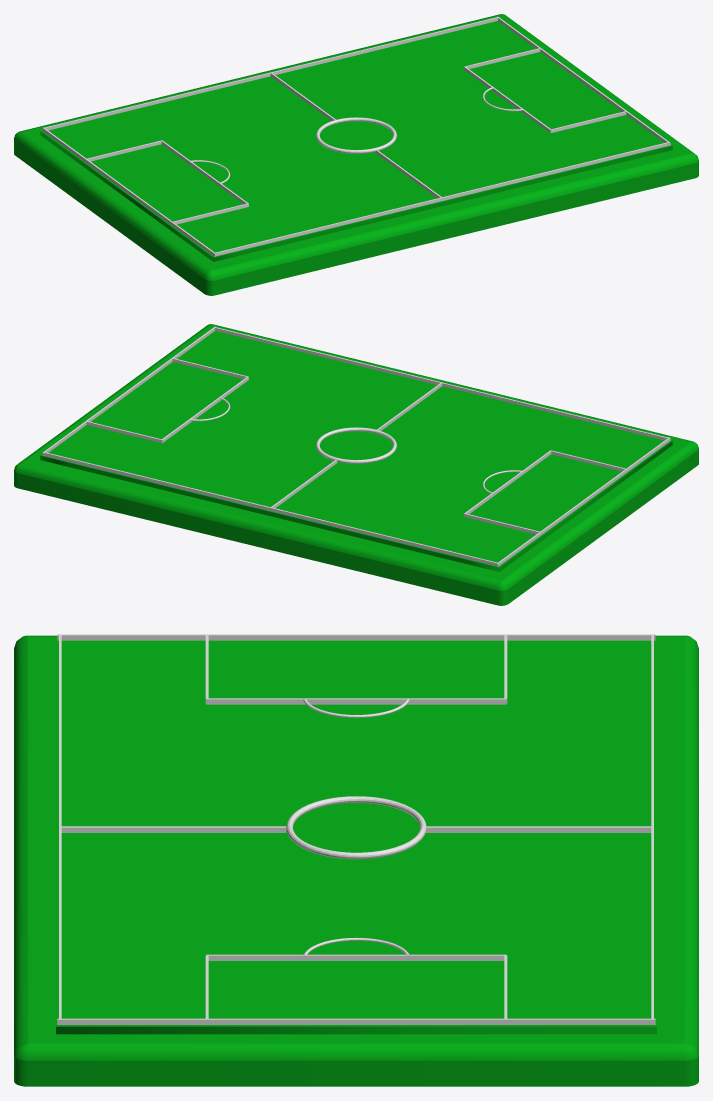
The model's file is field_non_sha.fbx.
3 views of the same model, one above another, from view 1: azimuth 30°, elevation 25°; view 2: azimuth 150°, elevation 25°; view 3: azimuth 270°, elevation 25° (orthographic). The views are drawn at different scales.
Visible parts, largest first — view 1: rect; view 2: rect; view 3: rect.
Part boxes in pixels (<box>): rect: <box>14,14,698,295</box>; rect: <box>14,324,698,605</box>; rect: <box>14,634,698,1086</box>.
Bounding box in the file's own units: 16820 × 1001 × 11660.
